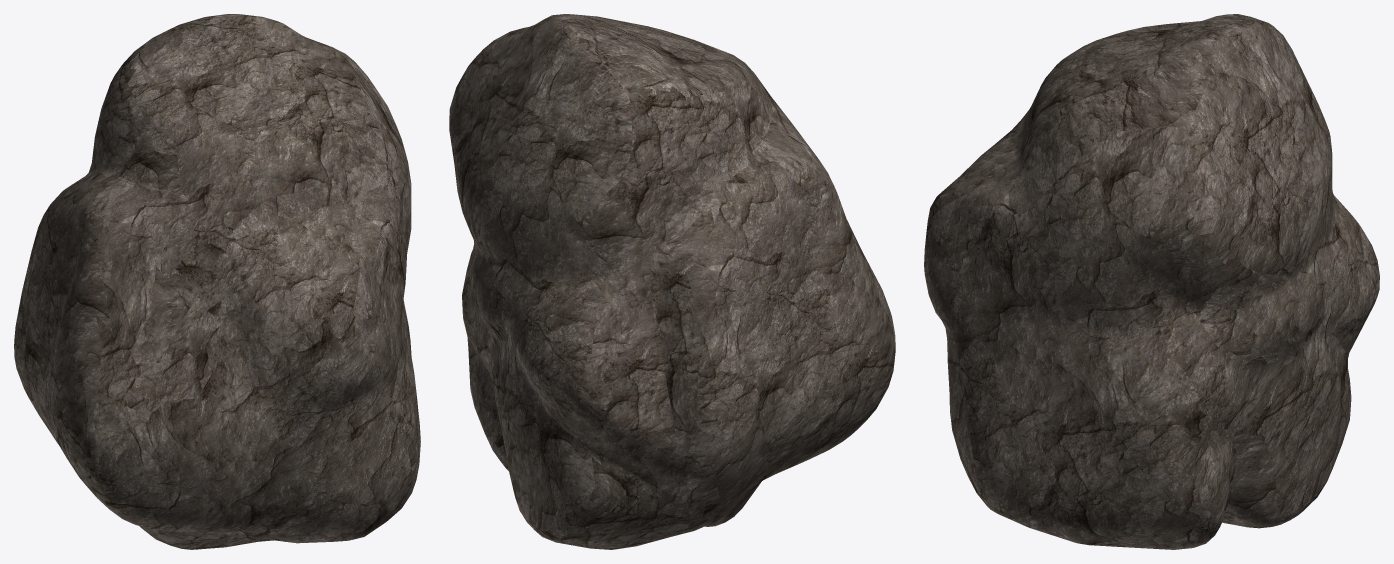
File: cascajo_rock_4.glb
3 renders of one model, left to right at view 1: azimuth 30°, elevation 25°; view 2: azimuth 150°, elevation 25°; view 3: azimuth 270°, elevation 25°, orthographic. The views are drawn at different scales.
Visible parts, largest first — view 1: rock_4; view 2: rock_4; view 3: rock_4.
Boxes of the visible parts, x1,y1,x2,y2 form: rock_4: (14, 14, 420, 549); rock_4: (449, 14, 895, 549); rock_4: (924, 14, 1379, 549).
Bounding box in the file's own units: 0.7993 × 1 × 0.8236.
1 material, 1 textured.
